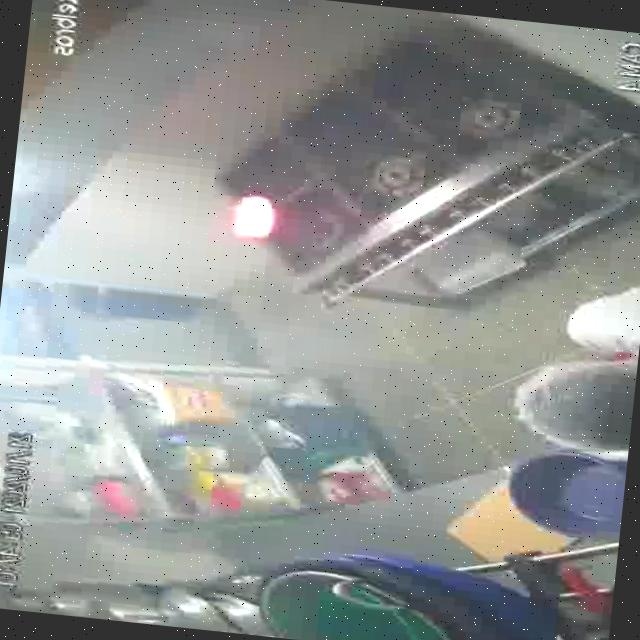fire: (154, 162, 346, 264)
